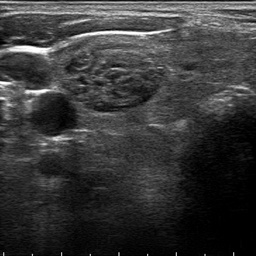mass: (66, 52, 161, 109)
